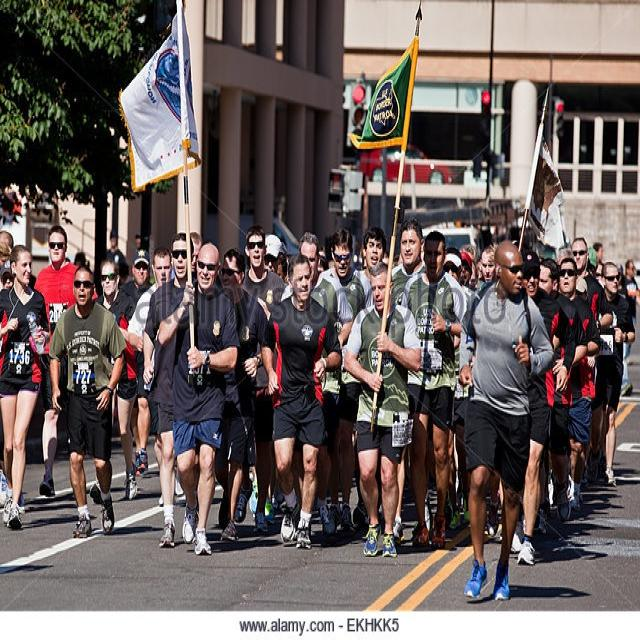body: (454, 234, 556, 606), (156, 239, 240, 557), (258, 249, 345, 550), (339, 258, 423, 564), (47, 262, 126, 541), (399, 228, 467, 551), (279, 229, 343, 537), (514, 245, 575, 568), (140, 229, 199, 551), (314, 225, 368, 535), (124, 243, 186, 507), (239, 224, 290, 532), (386, 215, 433, 544), (0, 241, 52, 531), (219, 246, 269, 544), (32, 222, 79, 498), (88, 258, 139, 507), (584, 258, 638, 488), (556, 255, 603, 517), (436, 244, 477, 532), (569, 235, 614, 488), (536, 255, 576, 535), (108, 245, 155, 480), (255, 228, 332, 282), (350, 223, 389, 311), (441, 236, 500, 292), (245, 465, 286, 524), (620, 258, 639, 369), (166, 228, 202, 280), (613, 332, 633, 400), (380, 236, 425, 266), (0, 464, 27, 510), (0, 228, 17, 286), (105, 225, 129, 266), (350, 492, 371, 528), (60, 248, 93, 270), (170, 468, 187, 507), (480, 246, 497, 284), (590, 239, 604, 284), (131, 230, 144, 270), (554, 241, 571, 269), (616, 262, 626, 278), (156, 491, 163, 510)
